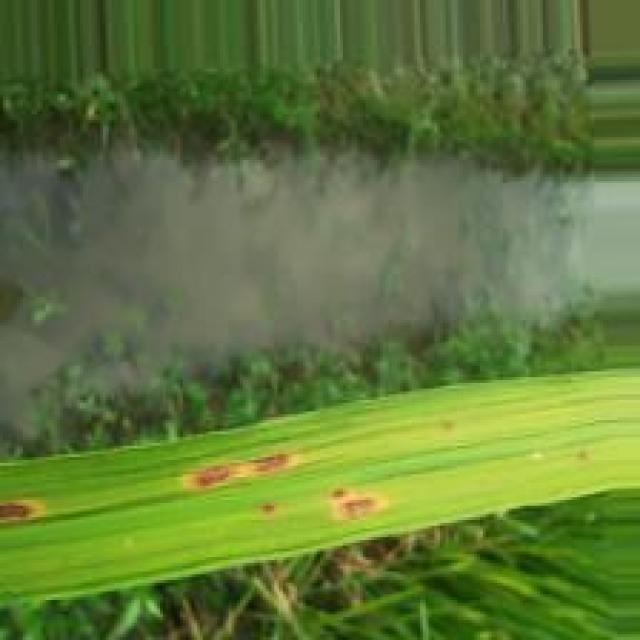Brown_Spot: (183, 451, 298, 492), (323, 486, 387, 522), (0, 499, 48, 524), (255, 498, 280, 516)
